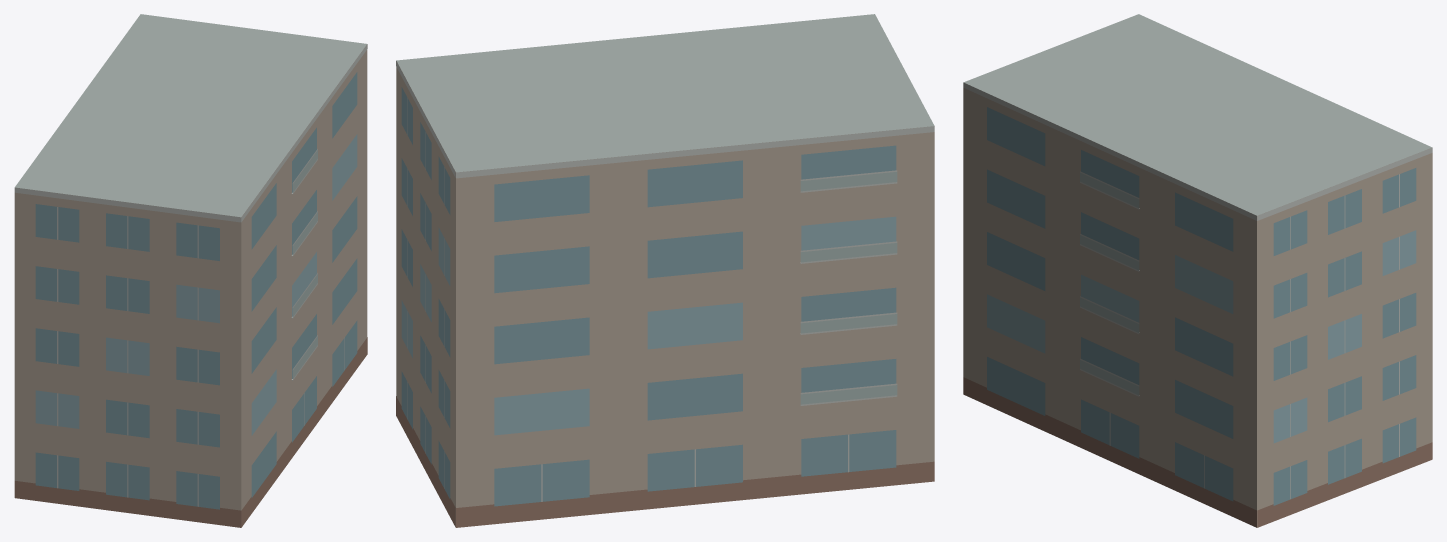
File: survey-upis-32717246.glb
The picture shows the model from 3 angles, left to right: view 1: azimuth 30°, elevation 25°; view 2: azimuth 150°, elevation 25°; view 3: azimuth 270°, elevation 25°; orthographic projection. The views are drawn at different scales.
Visible parts, largest first — view 1: survey-upis-32717246.tmp; view 2: survey-upis-32717246.tmp; view 3: survey-upis-32717246.tmp.
Boxes of the visible parts, x1,y1,x2,y2 form: survey-upis-32717246.tmp: (14,14,367,527); survey-upis-32717246.tmp: (396,14,934,527); survey-upis-32717246.tmp: (963,14,1432,527).
Size of the model in its own units: 20.12 by 14.5 by 19.76.
